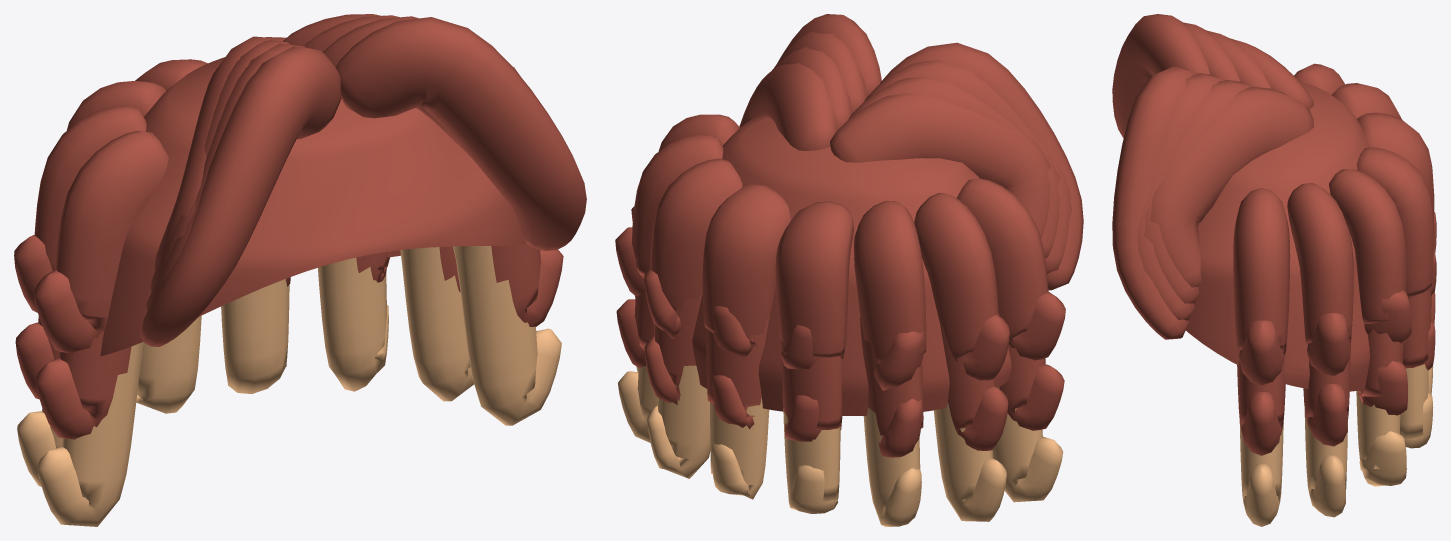
The model's file is studio_wolf_short.glb.
The picture shows the model from 3 angles, left to right: view 1: azimuth 30°, elevation 25°; view 2: azimuth 150°, elevation 25°; view 3: azimuth 270°, elevation 25°; orthographic projection. The views are drawn at different scales.
Visible parts, largest first — view 1: wolf; view 2: wolf; view 3: wolf.
Boxes of the visible parts, x1,y1,x2,y2 form: wolf: [14, 14, 586, 526]; wolf: [615, 14, 1083, 526]; wolf: [1112, 14, 1436, 526].
Bounding box in the file's own units: 0.597 × 0.5204 × 0.388.
